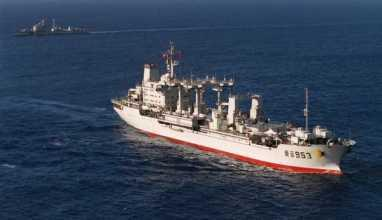Cargoship: (109, 48, 351, 174)
